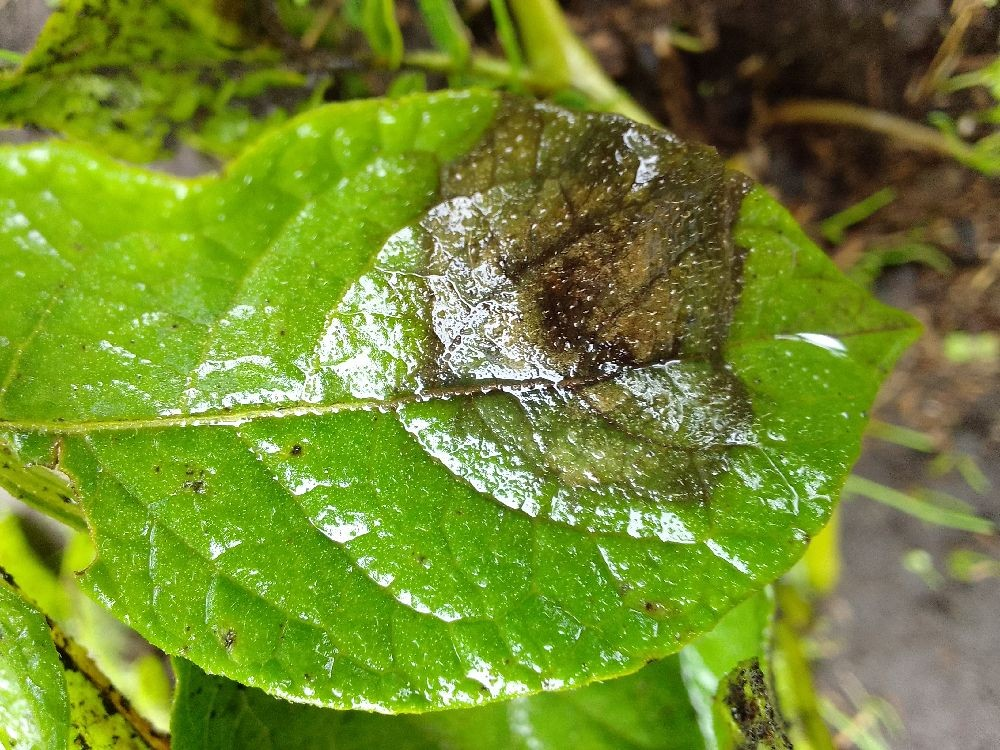late_blight: (406, 0, 999, 749), (0, 0, 595, 240), (8, 480, 74, 589)
